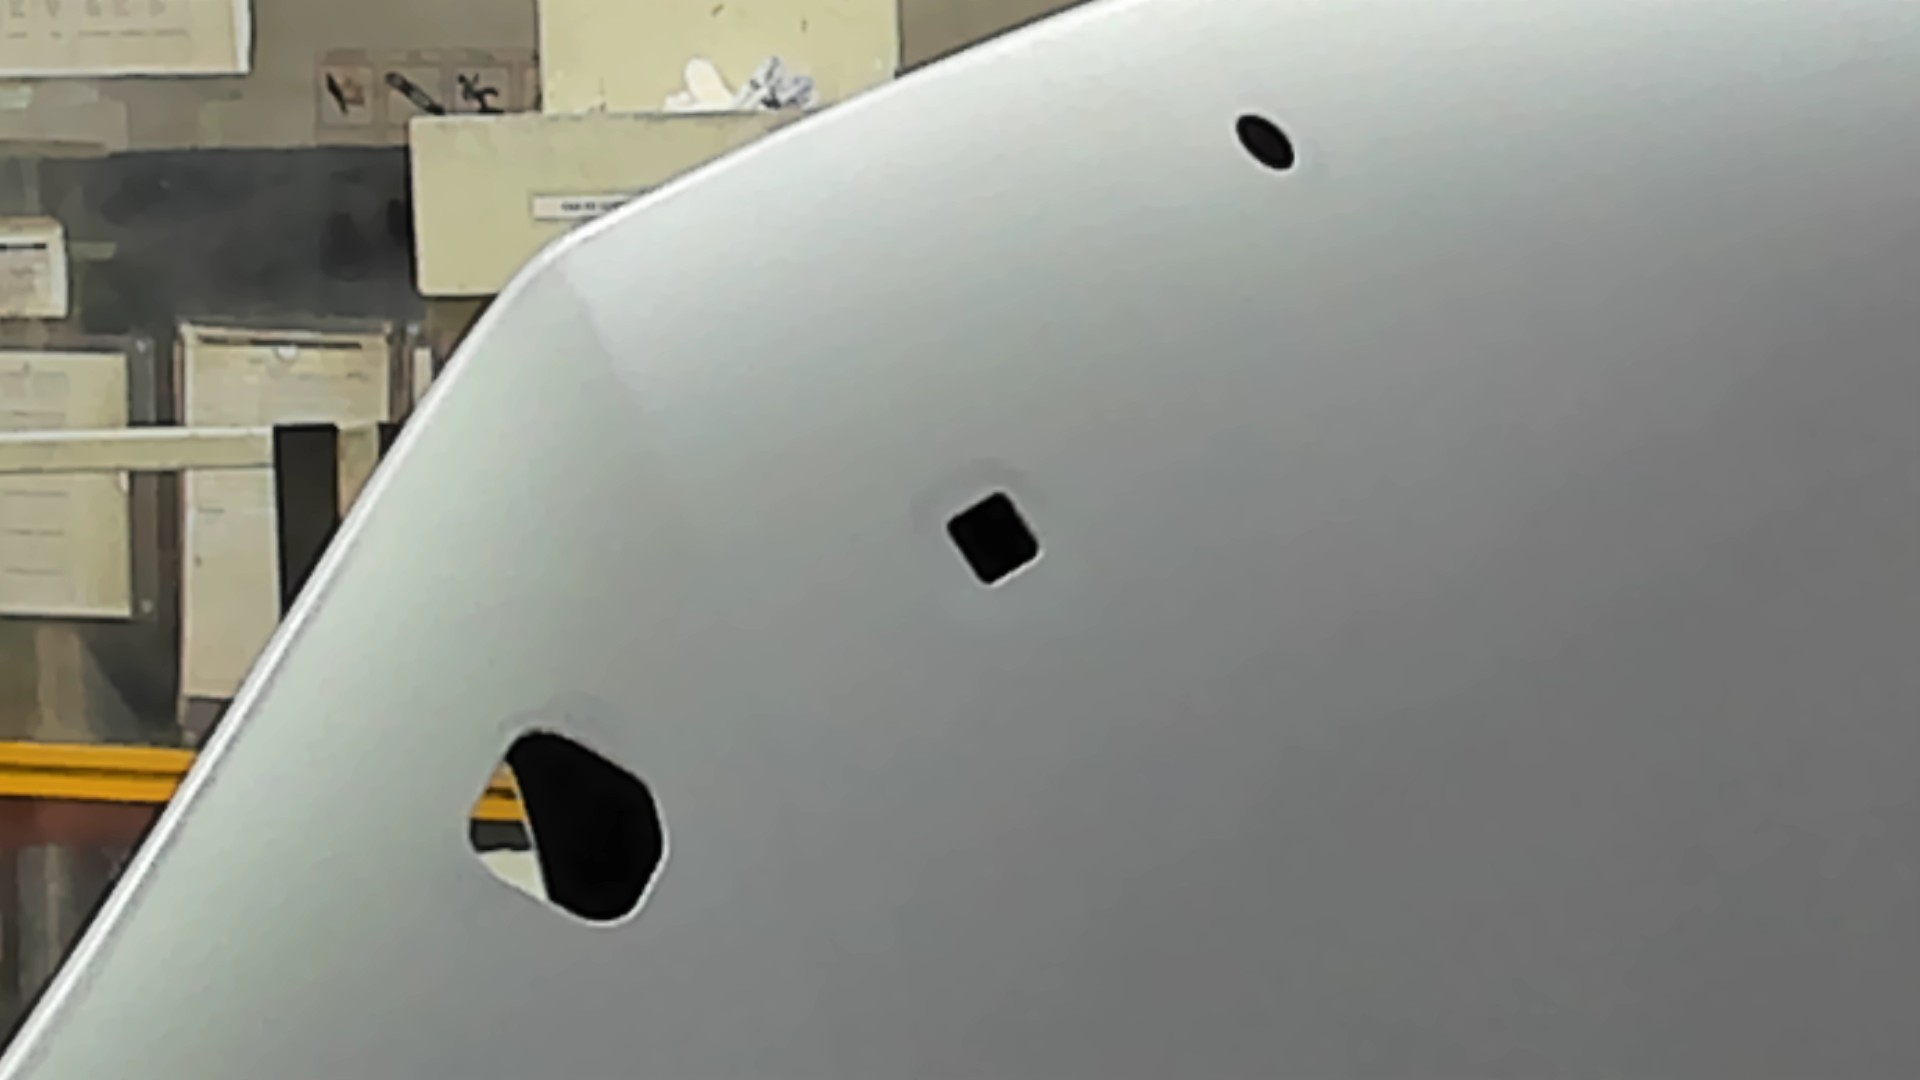chico: (1236, 111, 1298, 173)
grande: (462, 725, 671, 934)
mediano: (945, 489, 1044, 589)
